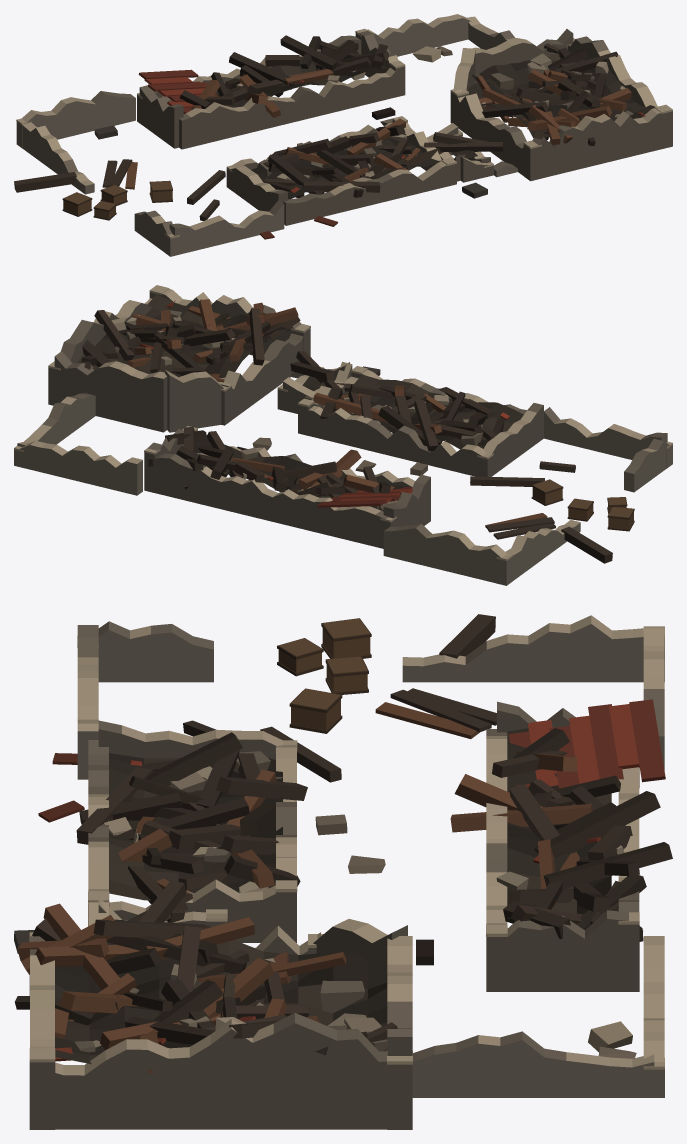
The model's file is VerBuild06b.glb.
The picture shows the model from 3 angles, top to bottom: view 1: azimuth 30°, elevation 25°; view 2: azimuth 150°, elevation 25°; view 3: azimuth 270°, elevation 25°; orthographic projection. The views are drawn at different scales.
Visible parts, largest first — view 1: VerBuild06b_wall; view 2: VerBuild06b_wall; view 3: VerBuild06b_wall.
Boxes of the visible parts, box(x1,y1,x2,y2) form: VerBuild06b_wall: box(14, 14, 672, 256); VerBuild06b_wall: box(14, 285, 672, 585); VerBuild06b_wall: box(14, 614, 672, 1129).
Size of the model in its own units: 17.38 by 1.76 by 9.59.
